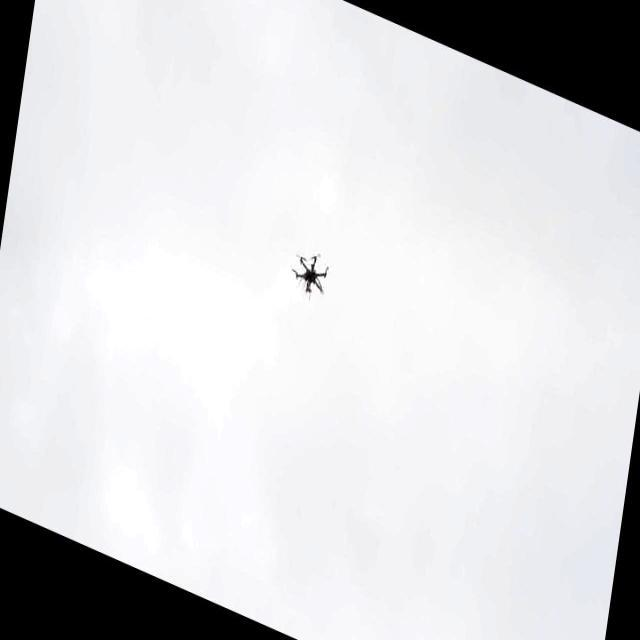drone: (287, 242, 333, 310)
